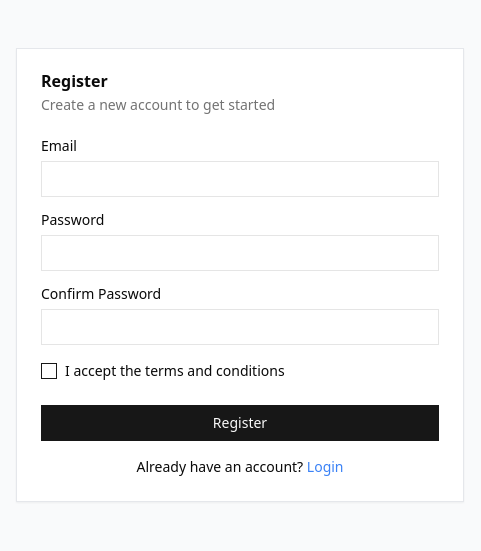
Scenario: RegisterPage › should allow registration when all validations pass
In the field labelled "Email": point(240, 179) [41,161,439,197], type "test@example.com"
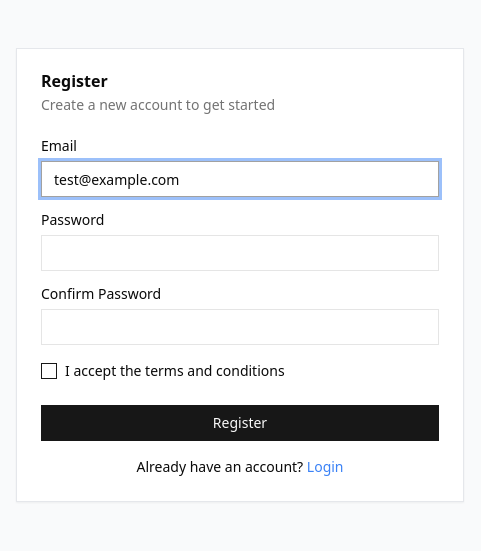
In the password field labelled "Password": point(240, 253) [41,235,439,271], type "password123"
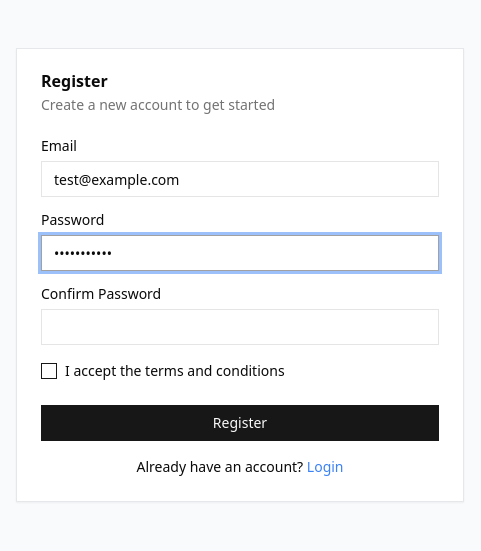
In the password field labelled "Confirm Password": point(240, 327) [41,309,439,345], type "password123"
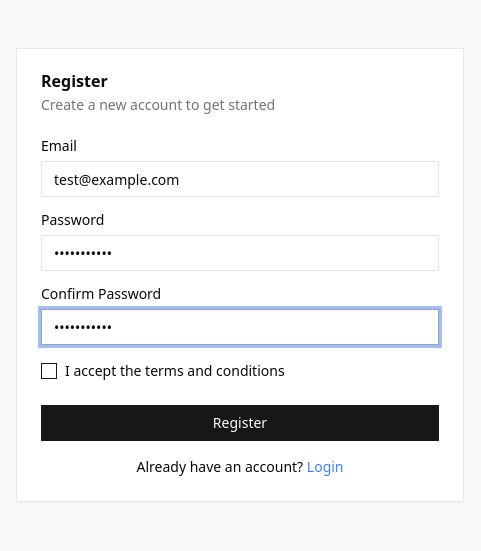
Click the checkbox named "accept the terms": point(49, 371) [41,363,57,379]
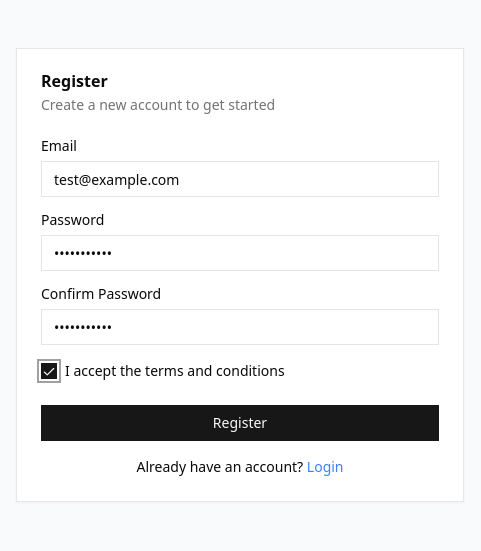
Click the button "Register": point(240, 423) [41,405,439,441]
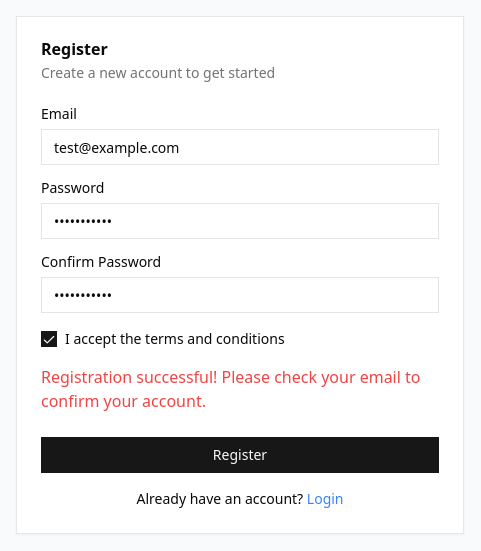
Expected: the text "Registration successful! Please check your email to confirm your account." is shown, [41,365,439,413]
